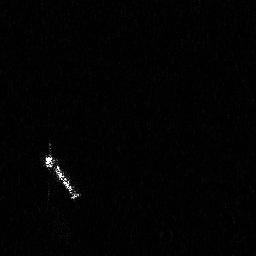ship: (42, 143, 81, 202)
